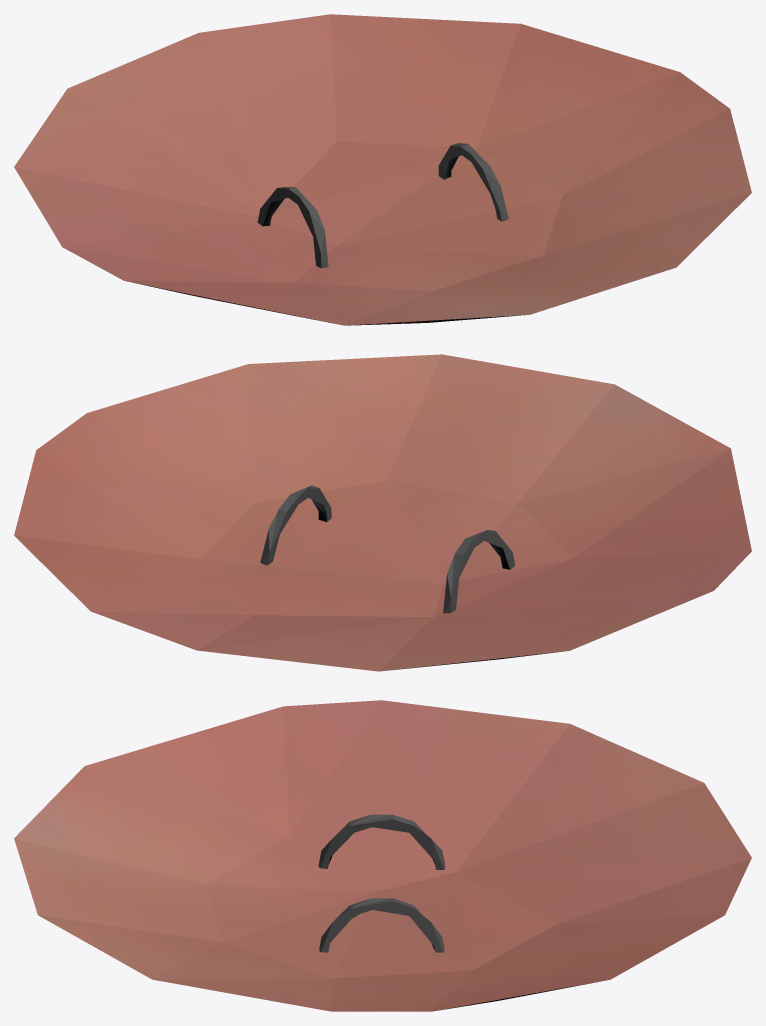
File: medusashield_wtf.obj
3 renders of one model, top to bottom at view 1: azimuth 30°, elevation 25°; view 2: azimuth 150°, elevation 25°; view 3: azimuth 270°, elevation 25°, orthographic. The views are drawn at different scales.
Visible parts, largest first — view 1: group1; view 2: group1; view 3: group1.
Part boxes in pixels (x1,y1,x2,y2): group1: [14, 14, 751, 325]; group1: [14, 354, 751, 671]; group1: [14, 700, 751, 1011].
Size of the model in its own units: 659 by 69.21 by 660.
